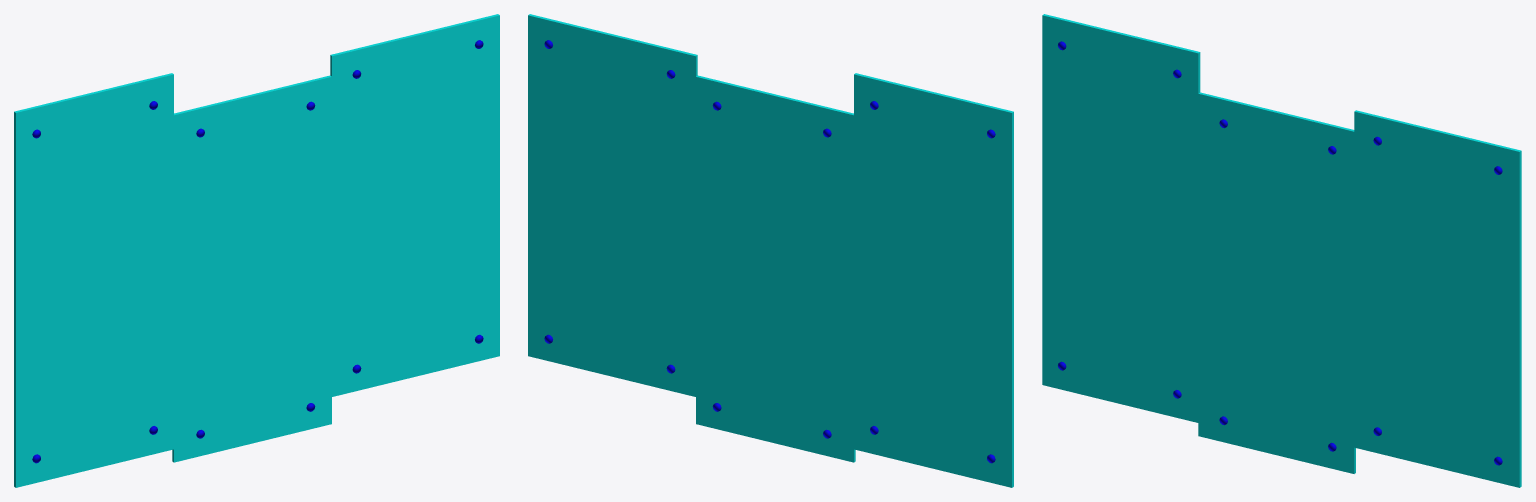
The model's file is cuadro_13_low.fbx.
3 views of the same model, side by side, from view 1: azimuth 30°, elevation 25°; view 2: azimuth 150°, elevation 25°; view 3: azimuth 330°, elevation 25° (orthographic).
Visible parts, largest first — view 1: pCube10, pCube12, pCube11; view 2: pCube10, pCube12, pCube11; view 3: pCube10, pCube12, pCube11.
Part boxes in pixels (left/top/right/bottom): pCube10: left=14, top=73, right=173, bottom=487; pCube12: left=330, top=14, right=499, bottom=396; pCube11: left=172, top=75, right=331, bottom=462; pCube10: left=854, top=73, right=1013, bottom=487; pCube12: left=528, top=14, right=697, bottom=396; pCube11: left=696, top=75, right=855, bottom=462; pCube10: left=1042, top=14, right=1200, bottom=422; pCube12: left=1354, top=110, right=1521, bottom=487; pCube11: left=1198, top=92, right=1355, bottom=473.
Size of the model in its own units: 150 by 115 by 2.
